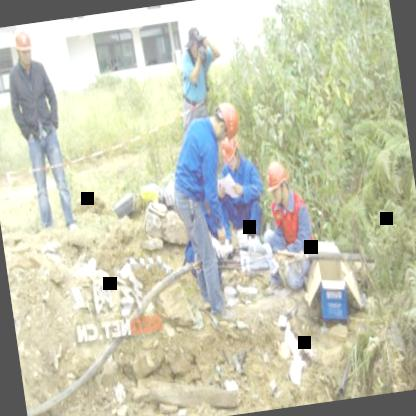helmet: (212, 96, 246, 154), (214, 133, 248, 180), (262, 156, 292, 204), (8, 26, 36, 70)
